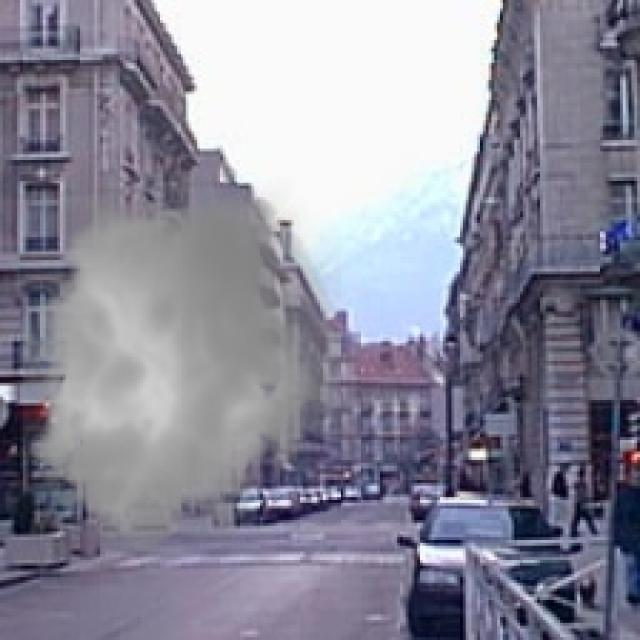Smoke: (9, 177, 352, 566)
